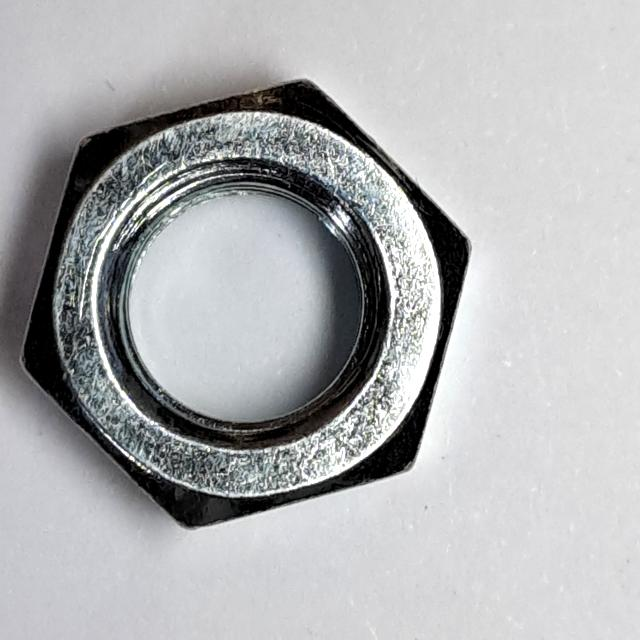Excellent: (10, 55, 486, 559)
